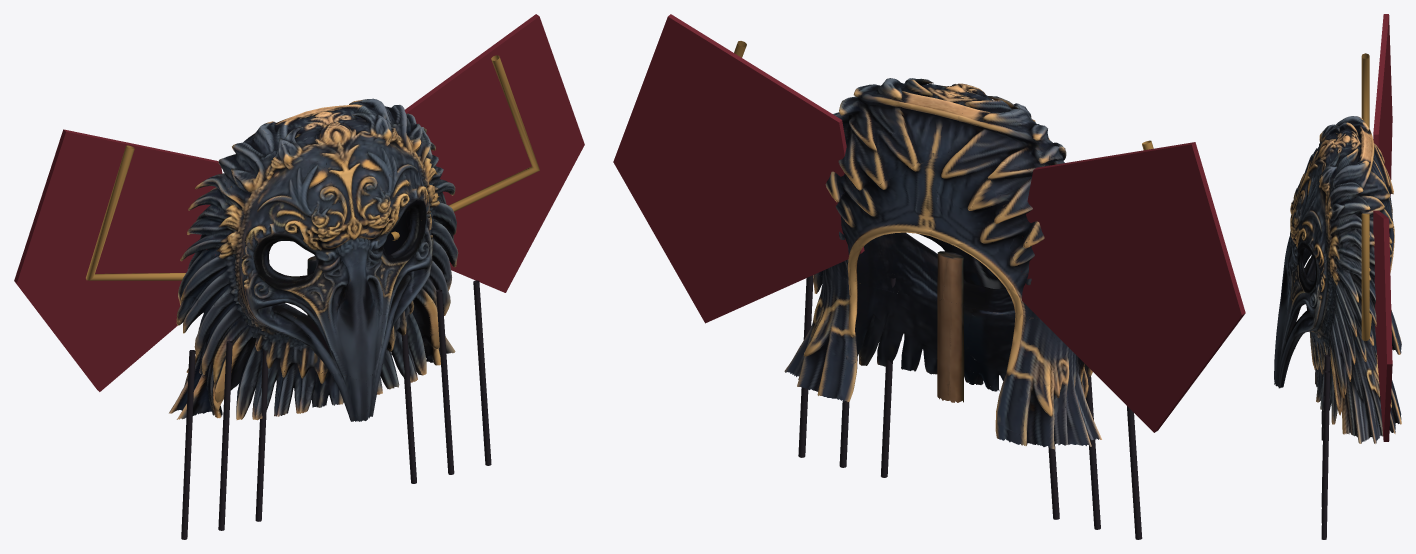
Rendered from mask-moth-veil.glb.
3 views of the same model, side by side, from view 1: azimuth 30°, elevation 25°; view 2: azimuth 150°, elevation 25°; view 3: azimuth 270°, elevation 25° (orthographic). The views are drawn at different scales.
Parts seen in each view (by area): view 1: Banquet_Mask_Moth_Veil_Mesh_01, Veiled_Moth_Wing_L, Veiled_Moth_Wing_R, Veiled_Moth_Wing_Rib_L, Veiled_Moth_Wing_Rib_R, Veiled_Moth_Veil_L_2, Veiled_Moth_Veil_L_3, Veiled_Moth_Veil_R_2, Veiled_Moth_Veil_R_3, Veiled_Moth_Veil_L_1, Veiled_Moth_Veil_R_1; view 2: Banquet_Mask_Moth_Veil_Mesh_01, Veiled_Moth_Wing_R, Veiled_Moth_Wing_L, Veiled_Moth_Veil_R_3, Veiled_Moth_Veil_L_3, Veiled_Moth_Veil_R_1, Veiled_Moth_Veil_L_2; view 3: Banquet_Mask_Moth_Veil_Mesh_01, Veiled_Moth_Wing_R, Veiled_Moth_Wing_L, Veiled_Moth_Wing_Rib_R, Veiled_Moth_Veil_R_3, Veiled_Moth_Wing_Rib_L, Veiled_Moth_Veil_R_2.
Boxes of the visible parts, bbox=[...] form: Banquet_Mask_Moth_Veil_Mesh_01: bbox=[169, 98, 458, 421]; Veiled_Moth_Wing_L: bbox=[14, 129, 222, 391]; Veiled_Moth_Wing_R: bbox=[405, 14, 584, 292]; Veiled_Moth_Wing_Rib_L: bbox=[86, 145, 185, 280]; Veiled_Moth_Wing_Rib_R: bbox=[391, 55, 539, 240]; Veiled_Moth_Veil_L_2: bbox=[218, 340, 232, 530]; Veiled_Moth_Veil_L_3: bbox=[181, 350, 195, 539]; Veiled_Moth_Veil_R_2: bbox=[436, 289, 454, 474]; Veiled_Moth_Veil_R_3: bbox=[473, 280, 491, 465]; Veiled_Moth_Veil_L_1: bbox=[255, 348, 268, 521]; Veiled_Moth_Veil_R_1: bbox=[401, 327, 416, 483]; Banquet_Mask_Moth_Veil_Mesh_01: bbox=[784, 78, 1101, 449]; Veiled_Moth_Wing_R: bbox=[613, 14, 864, 323]; Veiled_Moth_Wing_L: bbox=[1016, 142, 1245, 432]; Veiled_Moth_Veil_R_3: bbox=[798, 275, 813, 457]; Veiled_Moth_Veil_L_3: bbox=[1127, 406, 1142, 539]; Veiled_Moth_Veil_R_1: bbox=[881, 278, 895, 477]; Veiled_Moth_Veil_L_2: bbox=[1084, 364, 1100, 529]; Banquet_Mask_Moth_Veil_Mesh_01: bbox=[1274, 116, 1401, 443]; Veiled_Moth_Wing_R: bbox=[1373, 210, 1392, 441]; Veiled_Moth_Wing_L: bbox=[1373, 14, 1392, 196]; Veiled_Moth_Wing_Rib_R: bbox=[1361, 213, 1372, 341]; Veiled_Moth_Veil_R_3: bbox=[1321, 371, 1330, 539]; Veiled_Moth_Wing_Rib_L: bbox=[1361, 53, 1369, 128]; Veiled_Moth_Veil_R_2: bbox=[1321, 354, 1330, 522].
Size of the model in its own units: 0.8405 by 0.5703 by 0.185.
4 materials, 1 textured.
